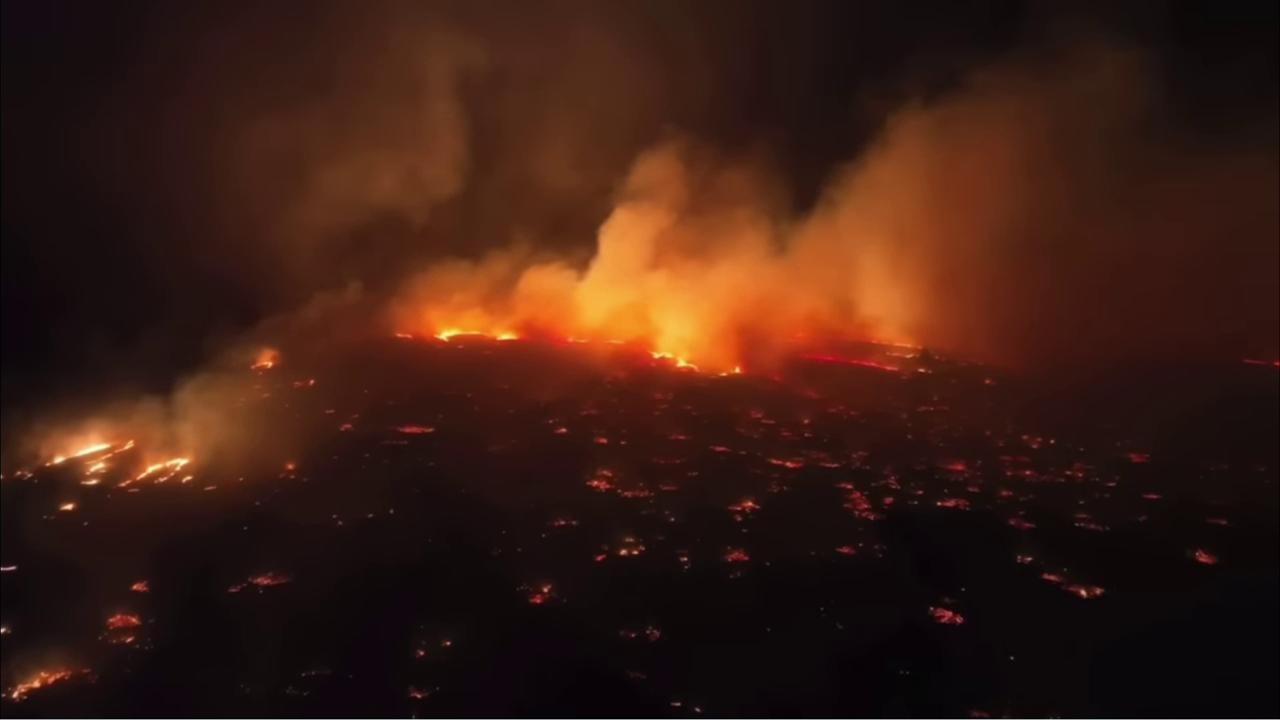fire: (44, 434, 138, 494), (581, 465, 655, 505), (990, 456, 1090, 484), (116, 453, 191, 490), (830, 479, 886, 525), (7, 667, 75, 704), (1039, 571, 1106, 603), (430, 326, 521, 346), (816, 339, 929, 355), (790, 356, 902, 372), (98, 611, 145, 649), (227, 569, 293, 595), (648, 349, 706, 377), (725, 497, 763, 529), (617, 622, 664, 646), (925, 604, 967, 629), (559, 334, 630, 347), (933, 495, 974, 516), (1001, 515, 1039, 536), (613, 534, 645, 558), (719, 544, 752, 566), (1019, 433, 1057, 451), (527, 581, 554, 605), (545, 513, 580, 531), (1192, 547, 1219, 568), (1122, 451, 1157, 467), (765, 455, 803, 469), (1238, 356, 1280, 368), (719, 362, 745, 380), (396, 423, 437, 434), (288, 377, 317, 392), (245, 359, 275, 373), (939, 460, 968, 474), (130, 577, 152, 595), (705, 443, 736, 455), (834, 543, 857, 558), (879, 495, 899, 512), (657, 480, 681, 494), (1012, 553, 1037, 566), (58, 501, 78, 516), (391, 328, 414, 341), (592, 550, 609, 567), (13, 467, 33, 481), (592, 434, 612, 448), (409, 689, 432, 701), (912, 365, 932, 378), (338, 419, 353, 433), (413, 646, 427, 660), (549, 426, 570, 435), (0, 625, 14, 638), (0, 563, 18, 573), (178, 475, 193, 485), (284, 461, 295, 473)
smoke: (1, 0, 1280, 605)
